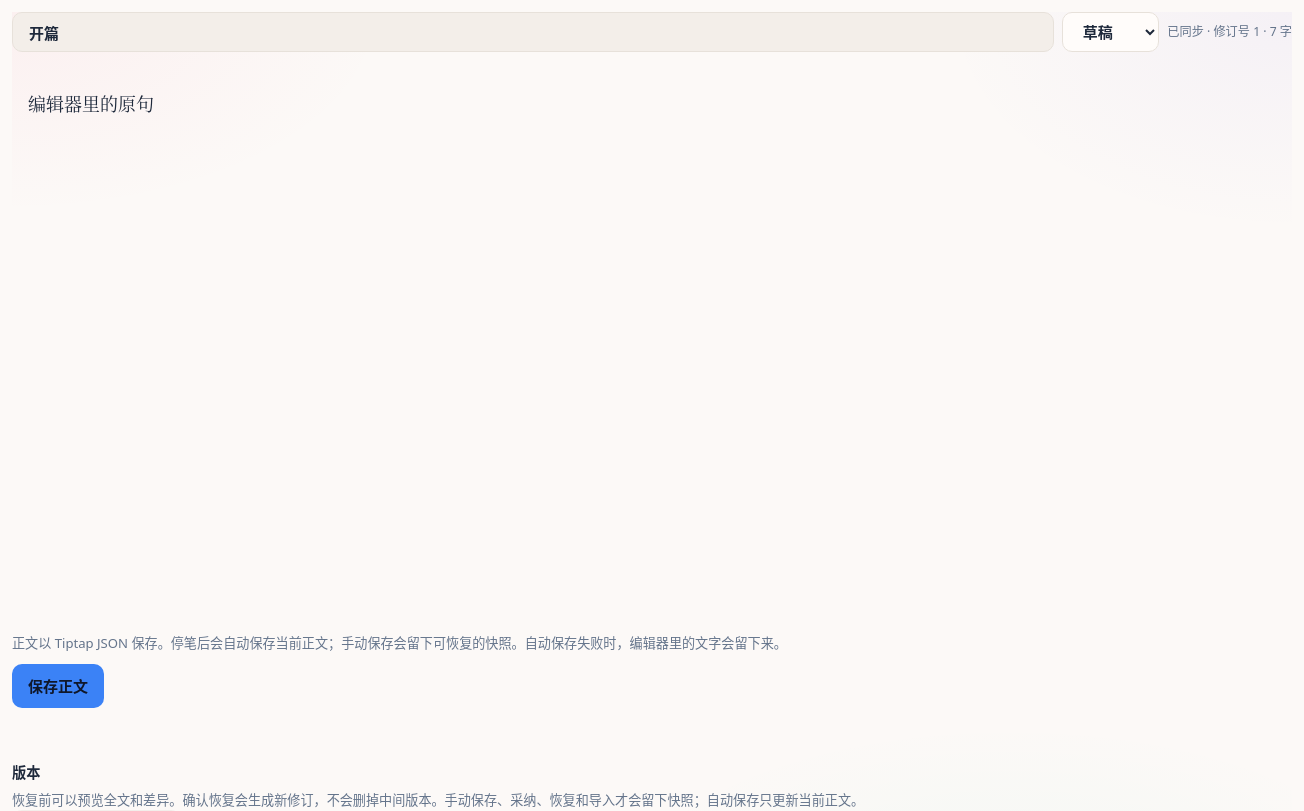
Scenario: ChapterEditor › t003 keeps editor text and shows retry when autosave fails
Expected: the field named "正文" reads "编辑器里的原句", [28,90,154,116]
Replace the text in the field named "章节标题" with "新的标题" at (533, 32), box [12,12,1054,52]
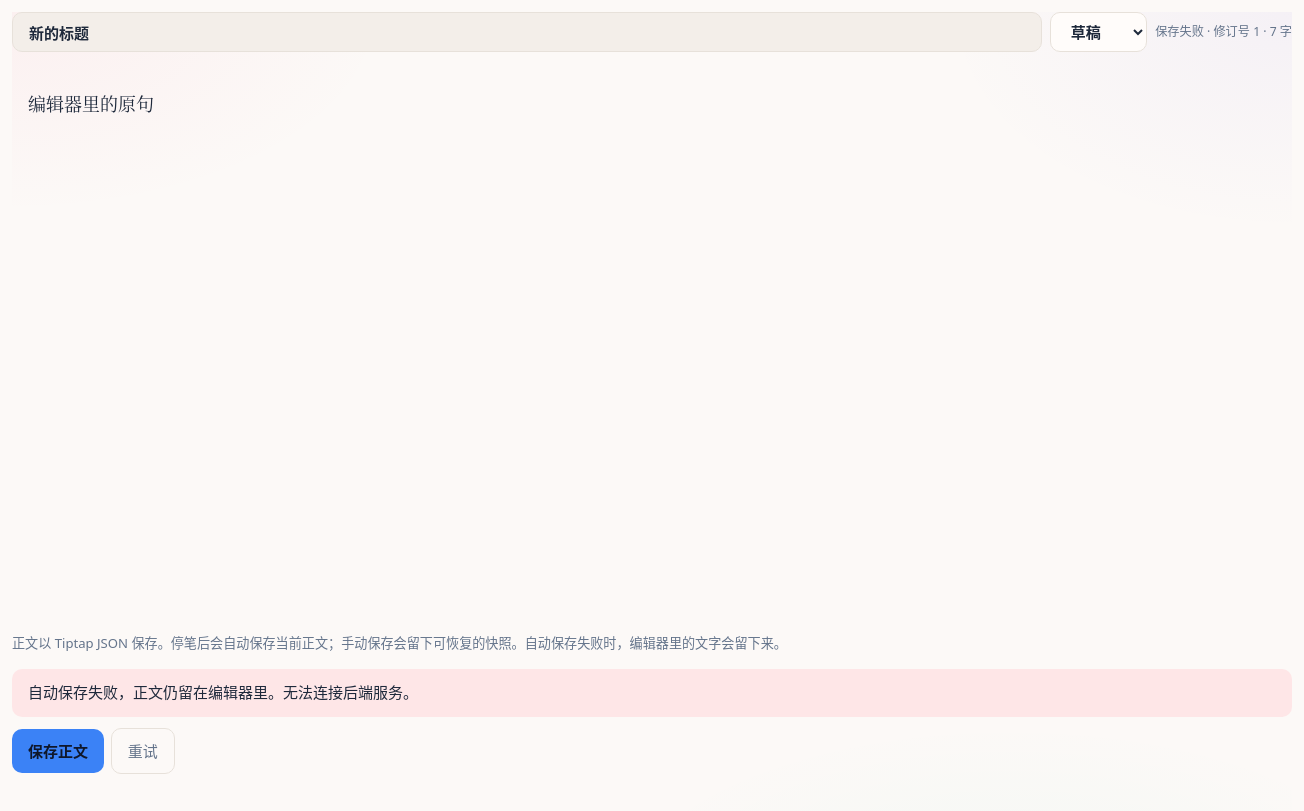
Expected: the field named "正文" reads "编辑器里的原句", [28,90,154,116]
Result: the message "自动保存失败，正文仍留在编辑器里。无法连接后端服务。" is shown at [12,669,1292,717]
Result: the button "重试" is shown
Click the button "重试" at (143, 751), box [111,728,175,774]
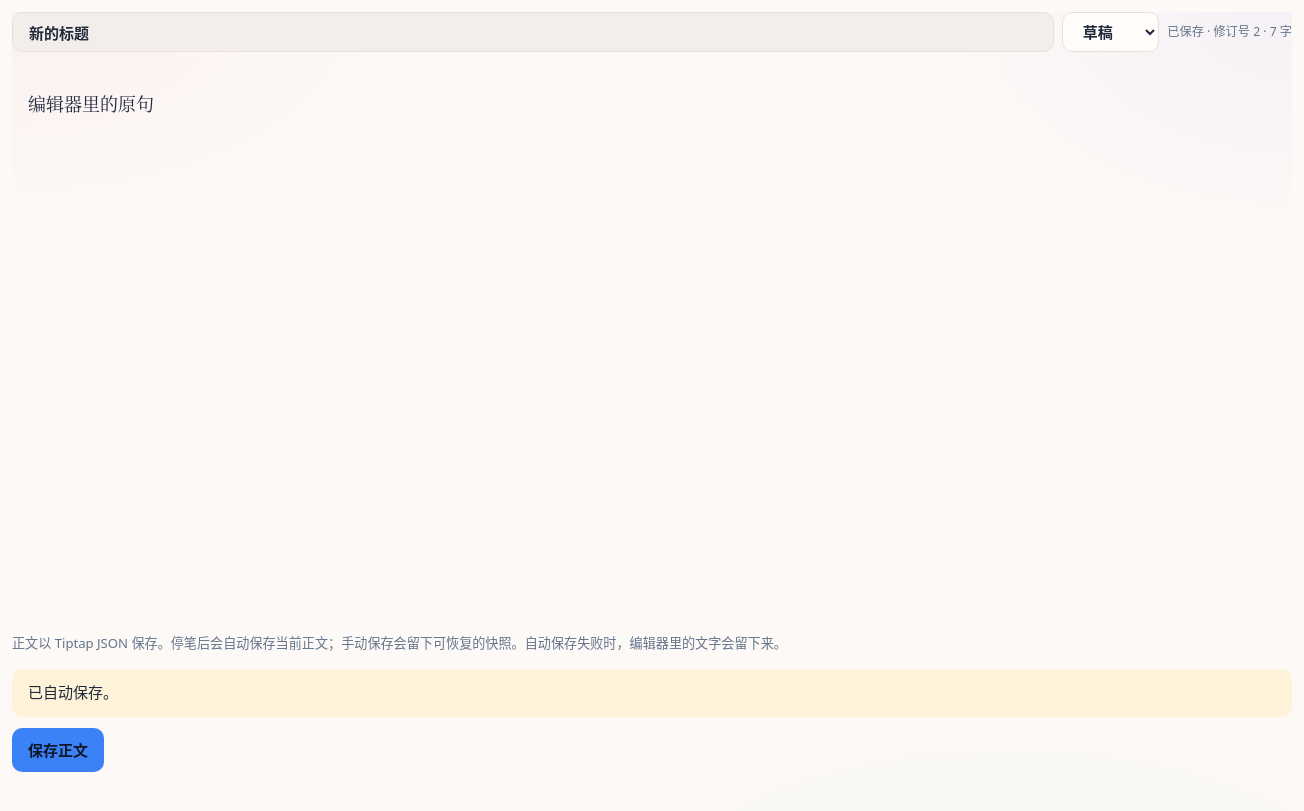
Expected: the field named "正文" reads "编辑器里的原句", [28,90,154,116]
Result: the text "已自动保存。" is shown at [12,669,1292,717]
